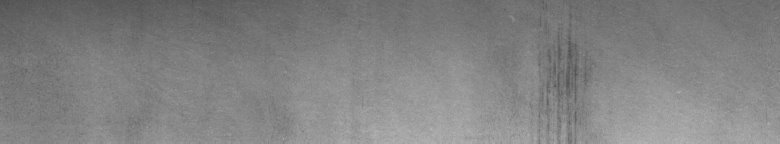ka: (539, 36, 582, 136)
